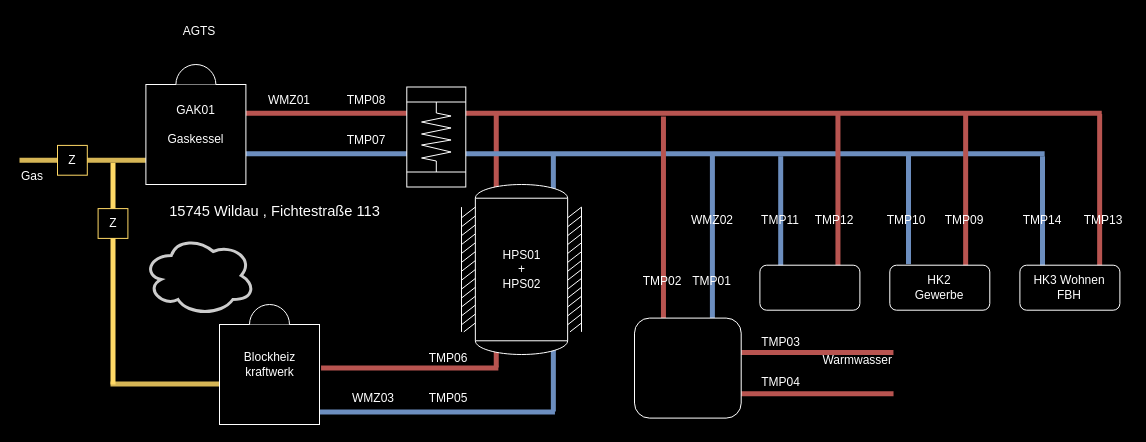
Image size: 1146x442. Some labels were removed from this diagram. Here are the shapes that lost their labels. From the top down, the centre of each, then its label:
At (x=198, y=275): "ATF01".
At (x=809, y=287): "HK1 Statische Heizung".
At (x=687, y=367): "Trinkwasser-erwärmer".
At (x=809, y=393): "Zirkulation".
